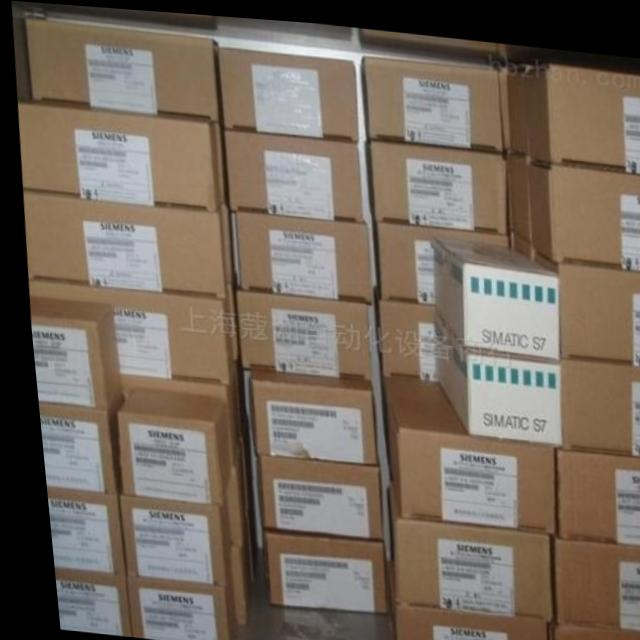box: (376, 371, 549, 525), (19, 190, 222, 298), (17, 98, 218, 206), (377, 481, 540, 612), (23, 11, 216, 118), (23, 279, 225, 381), (428, 298, 553, 436), (426, 233, 553, 355), (375, 560, 541, 640), (221, 122, 359, 217), (530, 240, 640, 358), (519, 58, 640, 165), (523, 152, 640, 262), (217, 44, 355, 137), (109, 386, 221, 500), (359, 54, 501, 143), (364, 134, 502, 224), (228, 209, 365, 298), (244, 367, 370, 460), (232, 285, 361, 375), (371, 216, 506, 296), (114, 371, 230, 462), (107, 493, 221, 584), (23, 299, 116, 407), (253, 525, 375, 607), (247, 454, 371, 534), (547, 440, 640, 537), (539, 532, 640, 617), (116, 564, 226, 640), (30, 397, 117, 491), (552, 354, 640, 445), (37, 489, 115, 577), (372, 290, 429, 377), (43, 574, 118, 632), (213, 439, 237, 545), (500, 62, 527, 151), (218, 531, 241, 626), (542, 619, 640, 640), (506, 149, 528, 234), (503, 222, 530, 251)
